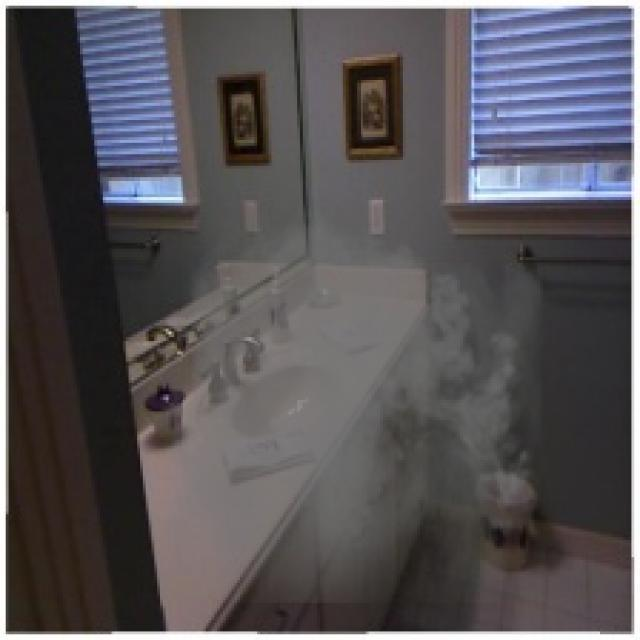Smoke: (166, 194, 543, 603)
